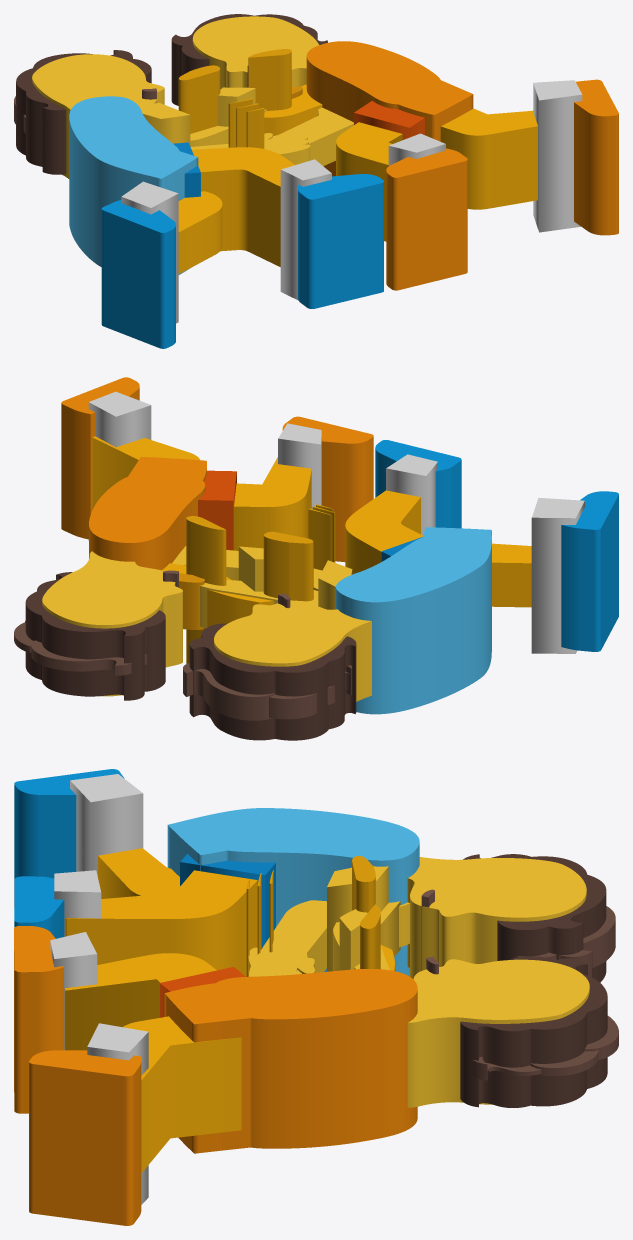
The model's file is emoji_u1f93c.glb.
The picture shows the model from 3 angles, top to bottom: view 1: azimuth 30°, elevation 25°; view 2: azimuth 150°, elevation 25°; view 3: azimuth 270°, elevation 25°; orthographic projection. The views are drawn at different scales.
Parts seen in each view (by area): view 1: emoji_u1f93c; view 2: emoji_u1f93c; view 3: emoji_u1f93c.
Boxes of the visible parts, <box> form: emoji_u1f93c: <box>14,14,618,348</box>; emoji_u1f93c: <box>14,377,618,740</box>; emoji_u1f93c: <box>14,769,618,1225</box>.
Size of the model in its own units: 0.0328 by 0.0092 by 0.0271.
